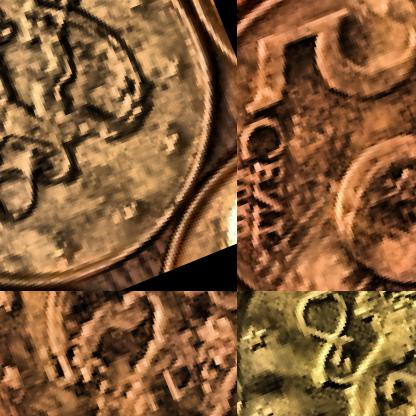coin: (0, 0, 236, 290), (237, 0, 415, 290), (0, 291, 236, 415), (237, 291, 415, 415)
